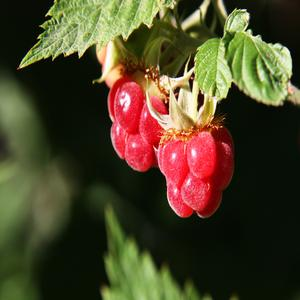raspb: (98, 84, 234, 229)
